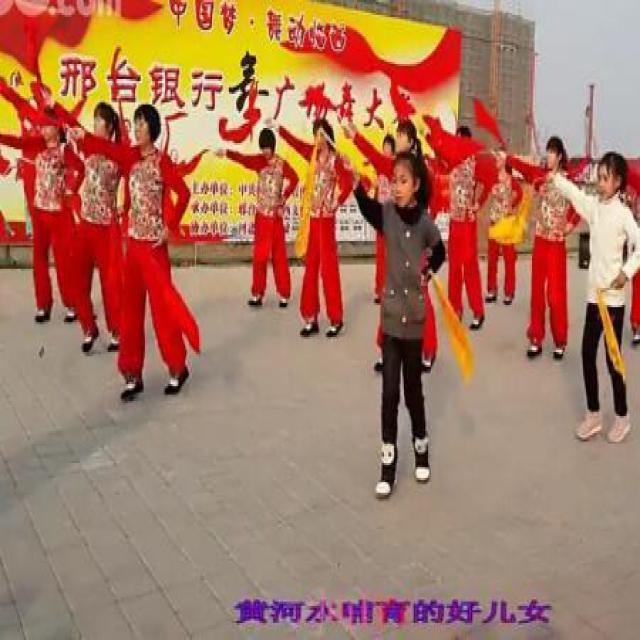non-fight: (352, 92, 453, 506), (70, 98, 202, 405), (547, 141, 640, 435), (268, 113, 364, 336), (512, 132, 585, 363), (213, 126, 298, 305)
